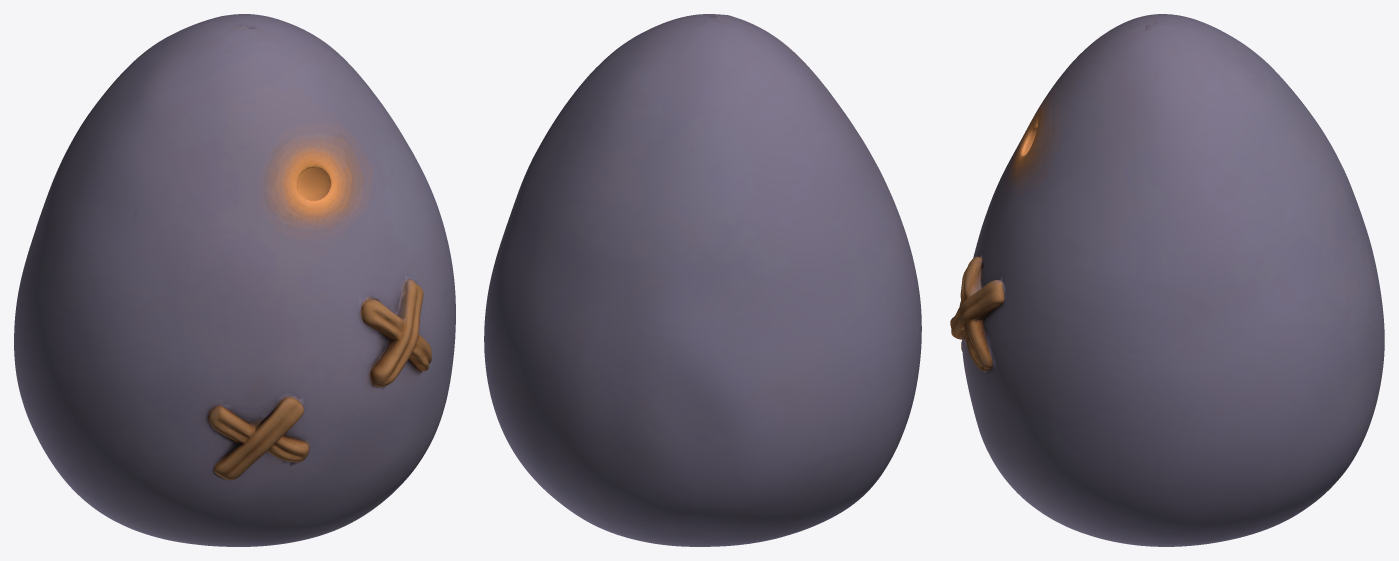
The model's file is stage_1.glb.
3 renders of one model, left to right at view 1: azimuth 30°, elevation 25°; view 2: azimuth 150°, elevation 25°; view 3: azimuth 270°, elevation 25°, orthographic.
Visible parts, largest first — view 1: convert; view 2: convert; view 3: convert.
Boxes of the visible parts, bbox=[...] form: convert: bbox=[14, 14, 455, 546]; convert: bbox=[484, 14, 921, 546]; convert: bbox=[950, 14, 1384, 546].
Size of the model in its own units: 0.9198 by 1.09 by 0.9069.
Materials: 1 (1 with a texture image).
